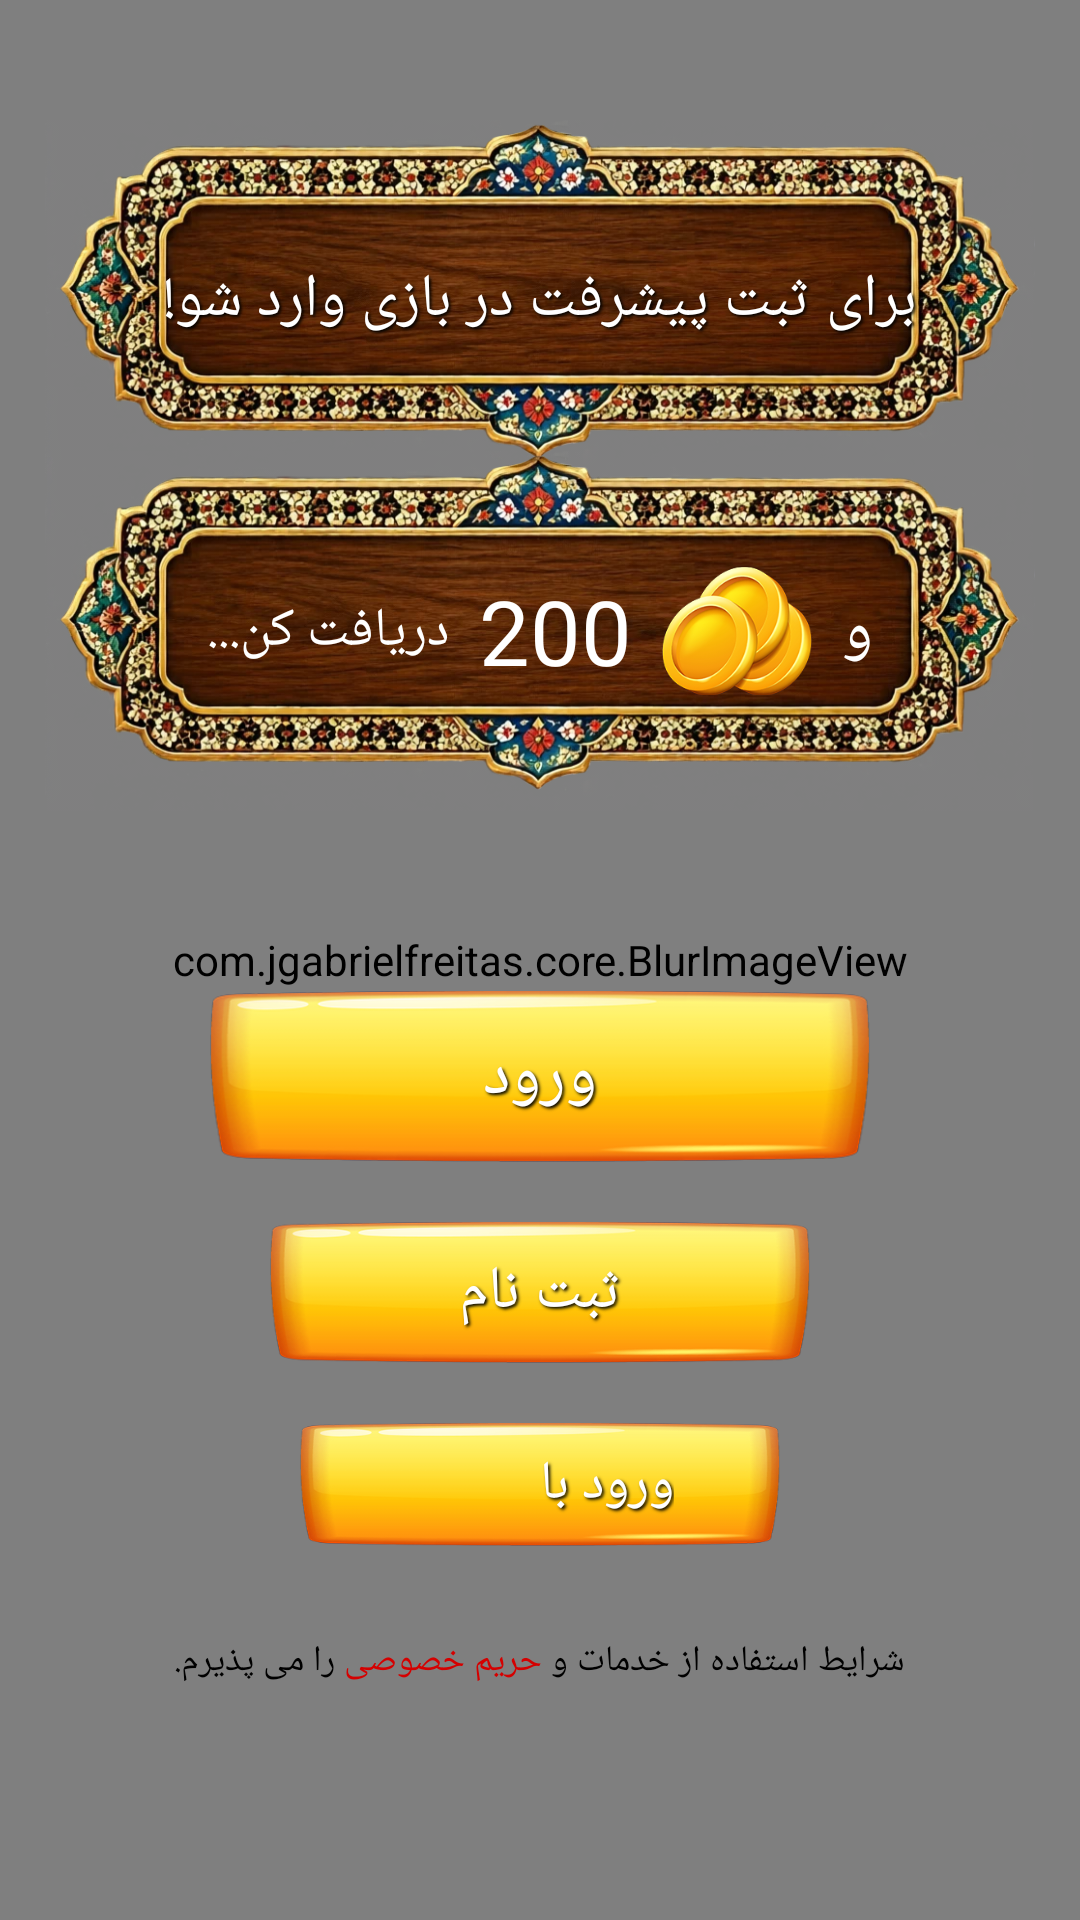

Point at icon controls on the screen. Image size 1080*1920, points as point (x, y).
coinssstseyf: point (737, 634)
